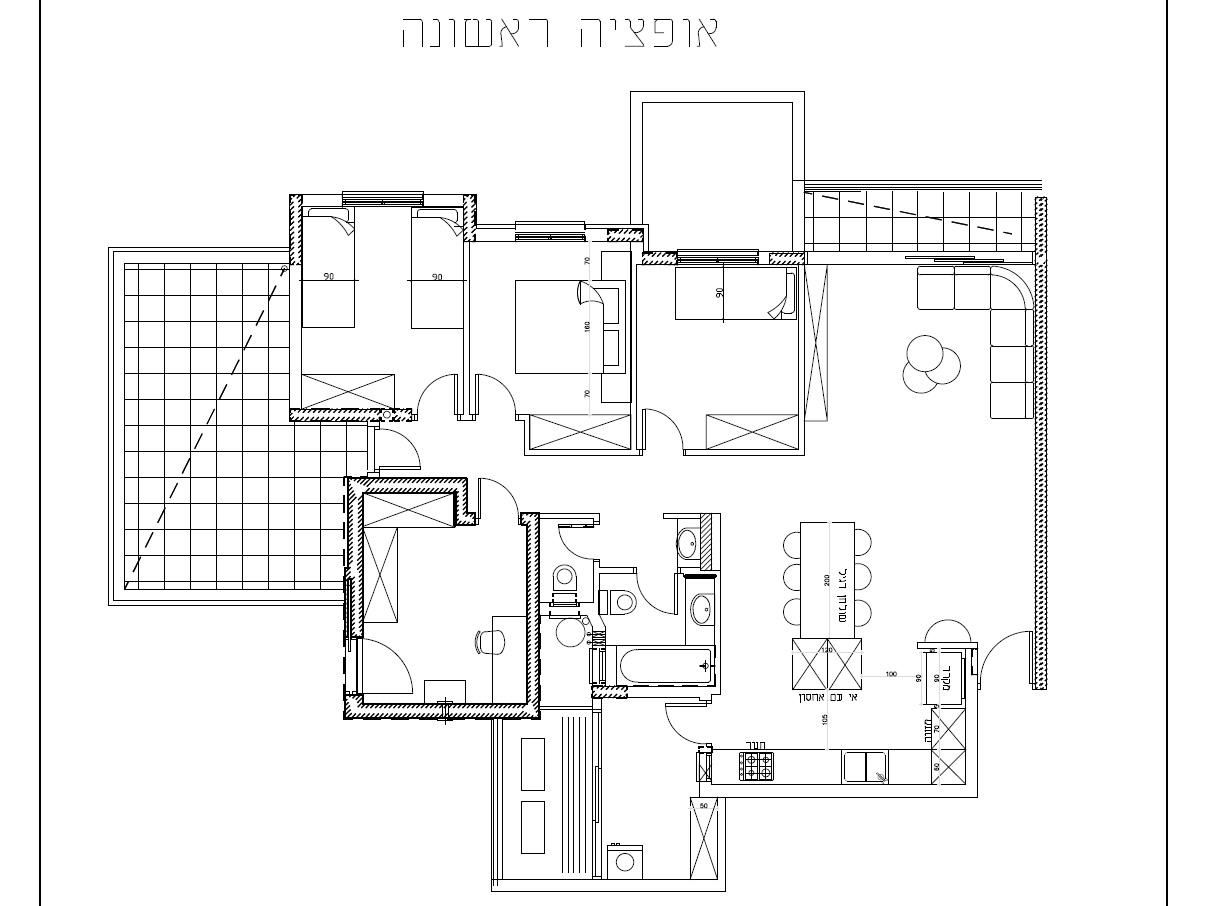door: (370, 633, 417, 699), (386, 423, 430, 473), (633, 577, 681, 619), (640, 401, 687, 443), (473, 364, 515, 411), (472, 470, 522, 508), (661, 700, 700, 747), (414, 371, 461, 405), (554, 519, 588, 559)
wall: (525, 514, 541, 717), (349, 481, 362, 635), (348, 480, 465, 490), (701, 514, 712, 569), (464, 195, 476, 242), (456, 484, 467, 523), (608, 229, 644, 239)
window: (513, 230, 586, 244), (676, 254, 759, 266), (340, 196, 424, 205)
